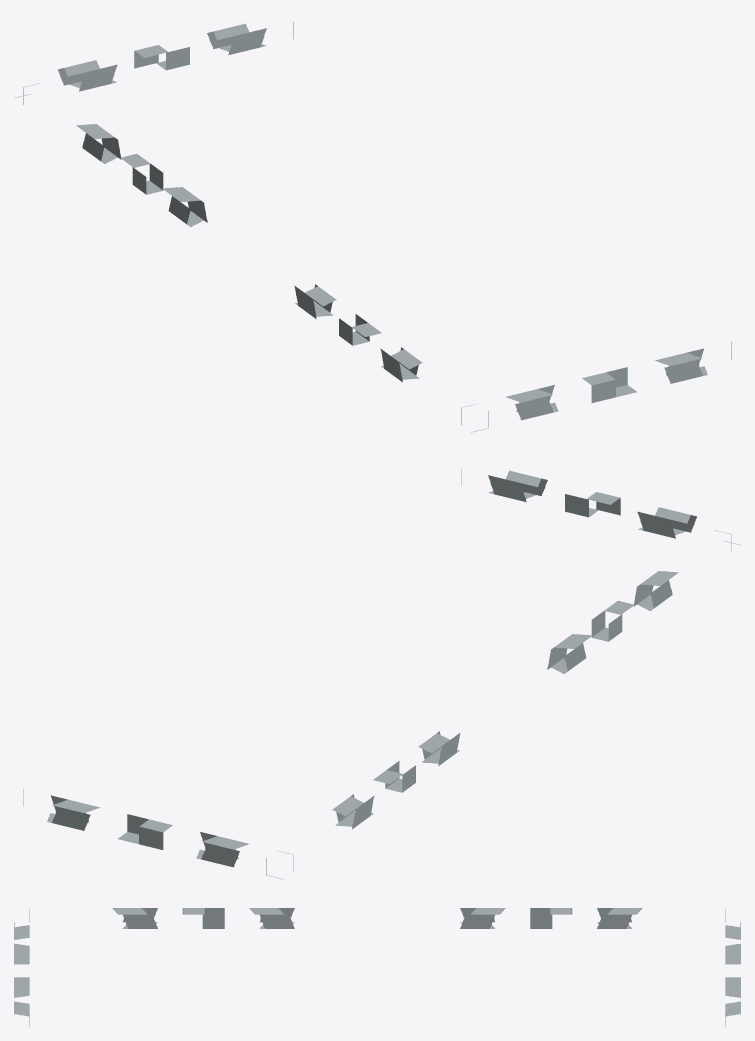
Rendered from ceiling_light_thingy_stuff.fbx.
3 views of the same model, one above another, from view 1: azimuth 30°, elevation 25°; view 2: azimuth 150°, elevation 25°; view 3: azimuth 270°, elevation 25° (orthographic). The views are drawn at different scales.
Parts seen in each view (by area): view 1: Ceiling_thingy; view 2: Ceiling_thingy; view 3: Ceiling_thingy.
Boxes of the visible parts, left/top/right/bottom form: Ceiling_thingy: left=14, top=22, right=731, bottom=432; Ceiling_thingy: left=23, top=469, right=740, bottom=879; Ceiling_thingy: left=14, top=908, right=740, bottom=1026.
Bounding box in the file's own units: 512 × 32.23 × 1504.
